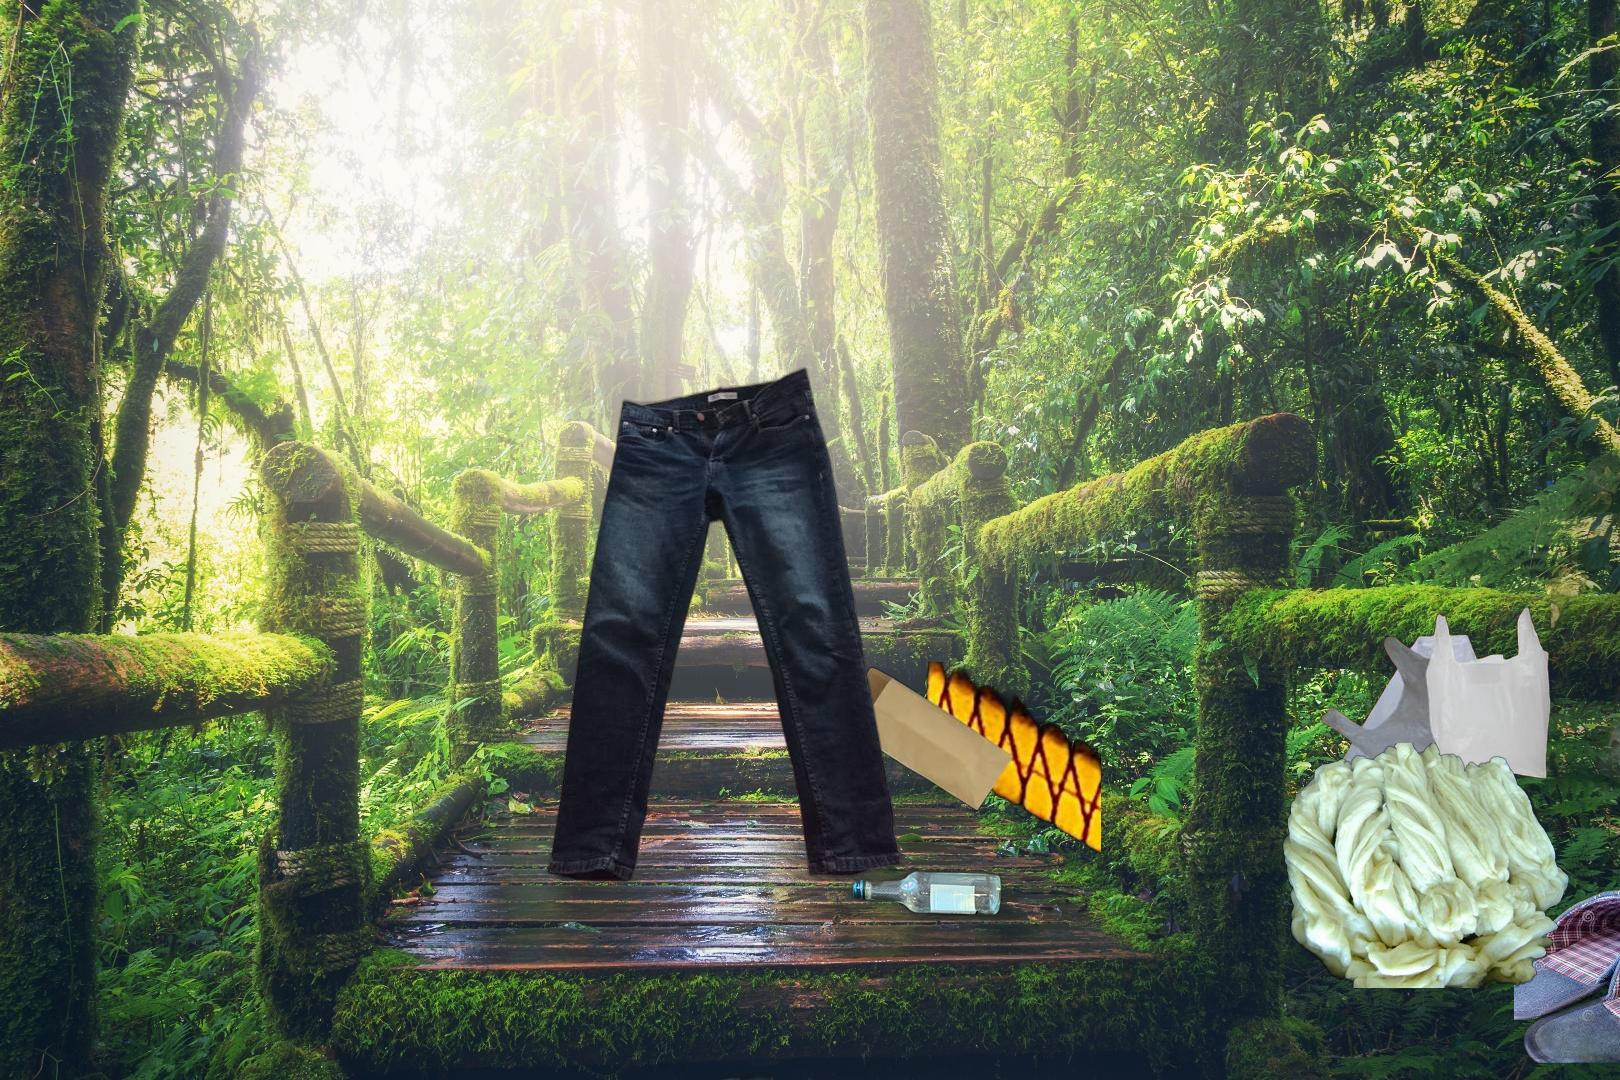biological: (1280, 742, 1572, 988)
clothes: (544, 360, 903, 888)
glass: (687, 865, 1006, 1080), (675, 1069, 800, 1080)
paper: (1551, 454, 1620, 839)
paper-bag: (834, 662, 1100, 857)
plastic-bag: (1317, 606, 1554, 811)
shoes: (1514, 888, 1620, 1078)
